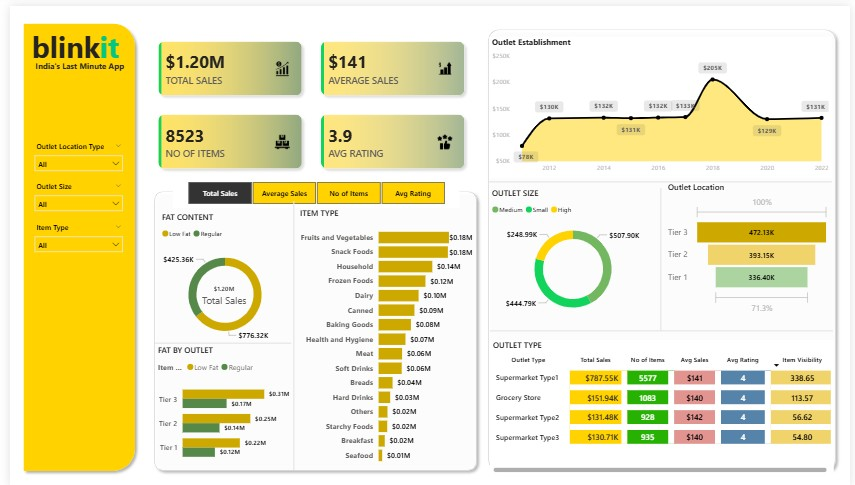

Layout of this report page (visuals, bound fields, positions):
{"tool":"powerbi","page":{"name":"Page 1","canvas":[1400,800],"ordinal":0},"visuals":[{"type":"shape","box":[13.3,19.7,204,764],"z":0},{"type":"textbox","box":[30.8,29.7,169.6,80],"z":1000},{"type":"textbox","box":[30.8,87.3,169.6,27.2],"z":2000},{"type":"cardVisual","fields":{"Data":["BlinkIT Grocery Data.Total Sales","BlinkIT Grocery Data.Average Sales","BlinkIT Grocery Data.No of Items","BlinkIT Grocery Data.Avg Rating"]},"box":[218,29.7,569.6,270.4],"z":3000},{"type":"shape","box":[232.4,300.1,555.2,483.2],"z":4000},{"type":"donutChart","title":"FAT CONTENT","fields":{"Y":["BlinkIT Grocery Data.Total Sales"],"Category":["BlinkIT Grocery Data.Item Fat Content"]},"box":[248.4,343.3,220,230],"z":5000},{"type":"slicer","fields":{"Values":["Metrices.Metrices"]},"box":[272.4,287.3,476.8,49.6],"z":6000},{"type":"cardVisual","fields":{"Data":["BlinkIT Grocery Data.Total Sales"]},"box":[289.3,445.3,134.7,73.3],"z":7000},{"type":"clusteredBarChart","title":"FAT BY OUTLET","fields":{"Y":["BlinkIT Grocery Data.Total Sales"],"Category":["BlinkIT Grocery Data.Outlet Location Type"],"Series":["BlinkIT Grocery Data.Item Fat Content"]},"box":[241.3,565.3,229.3,209.3],"z":8000},{"type":"shape","box":[242,549.7,227.2,24],"z":9000},{"type":"shape","box":[466,325.7,12.8,448],"z":10000},{"type":"barChart","title":"ITEM TYPE","fields":{"Y":["BlinkIT Grocery Data.Total Sales"],"Category":["BlinkIT Grocery Data.Item Type"]},"box":[478.8,336.9,297.6,436.8],"z":11000},{"type":"shape","box":[787.6,29.7,596.8,753.6],"z":12000},{"type":"lineChart","title":"Outlet Establishment","fields":{"Y":["BlinkIT Grocery Data.Total Sales"],"Category":["BlinkIT Grocery Data.Outlet Establishment Year"]},"box":[798.8,52.1,571.2,235.2],"z":13000},{"type":"shape","box":[798.8,287.3,571.2,12.8],"z":14000},{"type":"donutChart","title":"OUTLET SIZE","fields":{"Y":["BlinkIT Grocery Data.Total Sales"],"Category":["BlinkIT Grocery Data.Outlet Size"]},"box":[798.8,303.3,280,225.6],"z":15000},{"type":"shape","box":[1078.8,303.3,12.8,238.4],"z":16000},{"type":"funnel","title":"Outlet Location","fields":{"Y":["Sum(BlinkIT Grocery Data.Sales)"],"Category":["BlinkIT Grocery Data.Outlet Location Type"]},"box":[1091.6,293.7,278.4,225.6],"z":17000},{"type":"shape","box":[800.4,535.3,571.2,12.8],"z":18000},{"type":"pivotTable","title":"OUTLET TYPE","fields":{"Rows":["BlinkIT Grocery Data.Outlet Type"],"Values":["BlinkIT Grocery Data.Total Sales","BlinkIT Grocery Data.No of Items","BlinkIT Grocery Data.Average Sales","BlinkIT Grocery Data.Avg Rating","Sum(BlinkIT Grocery Data.Item Visibility)"]},"box":[800.4,556.1,572.8,225.6],"z":19000},{"type":"slicer","fields":{"Values":["BlinkIT Grocery Data.Outlet Location Type"]},"box":[30.7,220,169.3,68],"z":20000},{"type":"slicer","fields":{"Values":["BlinkIT Grocery Data.Outlet Size"]},"box":[30.7,286.7,169.3,68],"z":20001},{"type":"slicer","fields":{"Values":["BlinkIT Grocery Data.Item Type"]},"box":[30.7,354.7,169.3,68],"z":20002}]}

Visuals, with their boxes in screenshot pixels (x1, y1, x2, y2), scaled from the page's 1400x800 canvas onto the 855x485 screenshot:
shape: [8,12,133,475]
textbox: [19,18,122,67]
textbox: [19,53,122,69]
cardVisual - BlinkIT Grocery Data.Total Sales x BlinkIT Grocery Data.Average Sales: [133,18,481,182]
shape: [142,182,481,475]
"FAT CONTENT" donutChart: [152,208,286,348]
slicer - Metrices.Metrices: [166,174,458,204]
cardVisual - BlinkIT Grocery Data.Total Sales: [177,270,259,314]
"FAT BY OUTLET" clusteredBarChart: [147,343,287,470]
shape: [148,333,287,348]
shape: [285,197,292,469]
"ITEM TYPE" barChart: [292,204,474,469]
shape: [481,18,845,475]
"Outlet Establishment" lineChart: [488,32,837,174]
shape: [488,174,837,182]
"OUTLET SIZE" donutChart: [488,184,659,321]
shape: [659,184,667,328]
"Outlet Location" funnel: [667,178,837,315]
shape: [489,325,838,332]
"OUTLET TYPE" pivotTable: [489,337,839,474]
slicer - BlinkIT Grocery Data.Outlet Location Type: [19,133,122,175]
slicer - BlinkIT Grocery Data.Outlet Size: [19,174,122,215]
slicer - BlinkIT Grocery Data.Item Type: [19,215,122,256]
